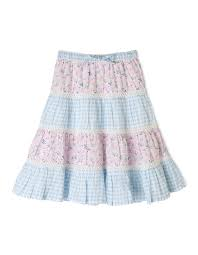C_skirt: (8, 50, 191, 216)
